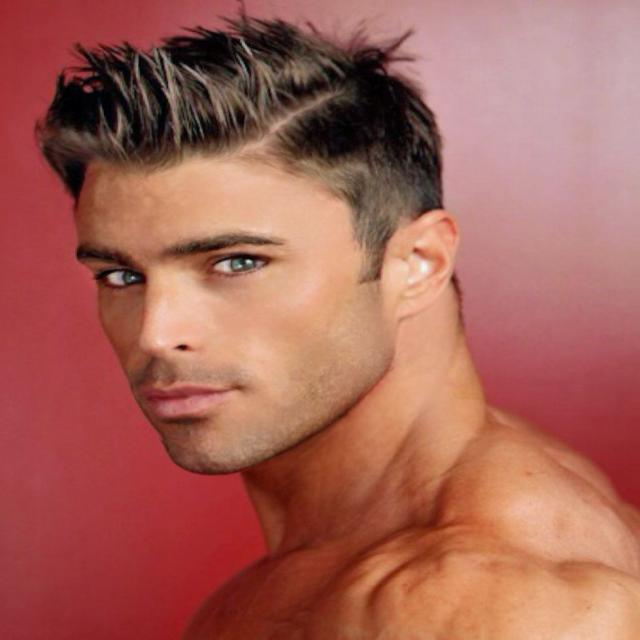earlobe: (398, 294, 424, 317)
eye: (209, 253, 269, 276), (100, 267, 144, 288)
nose: (140, 341, 198, 375)
wholeear: (396, 210, 461, 316)
